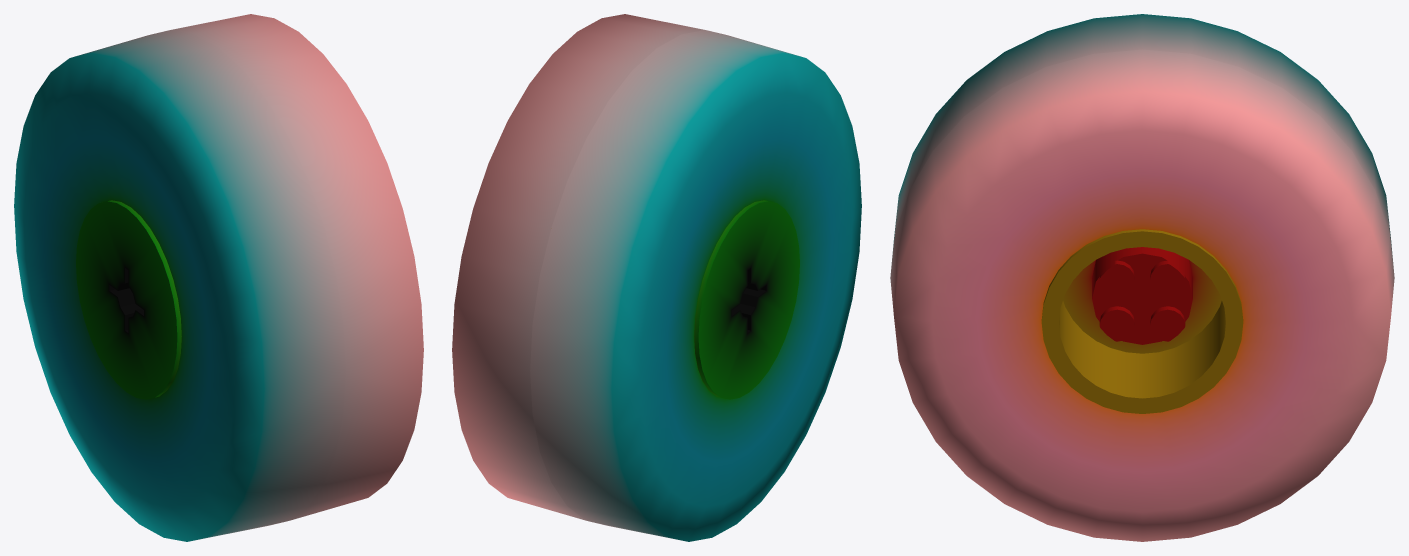
File: SM_Wheel_10x4.gltf
3 renders of one model, left to right at view 1: azimuth 30°, elevation 25°; view 2: azimuth 150°, elevation 25°; view 3: azimuth 270°, elevation 25°, orthographic.
Parts seen in each view (by area): view 1: SM_Wheel_10x4; view 2: SM_Wheel_10x4; view 3: SM_Wheel_10x4.
Part boxes in pixels (box(x1,y1,x2,y2)): SM_Wheel_10x4: box(14, 14, 423, 541); SM_Wheel_10x4: box(452, 14, 861, 541); SM_Wheel_10x4: box(890, 14, 1394, 541).
Size of the model in its own units: 1.26 by 3 by 3.
